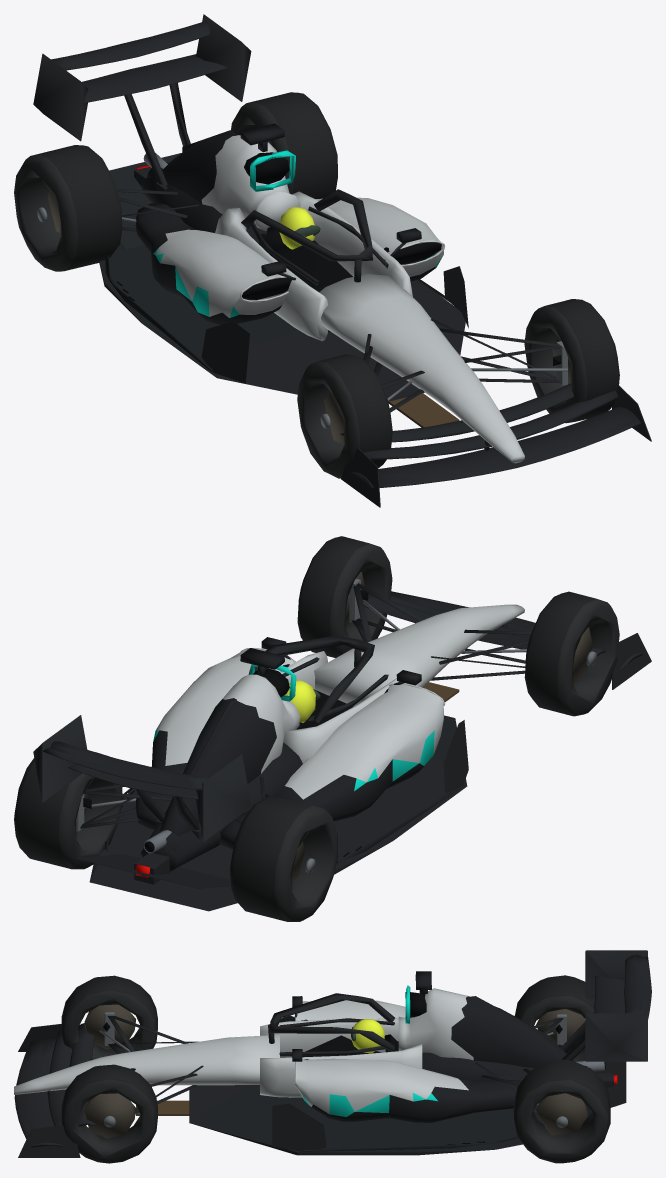
3 views of the same model, one above another, from view 1: azimuth 30°, elevation 25°; view 2: azimuth 150°, elevation 25°; view 3: azimuth 270°, elevation 25° (orthographic). The views are drawn at different scales.
Parts seen in each view (by area): view 1: L3_Chassis, L3_Wheel_RL, L3_Wheel_FL, L3_Wheel_FR, L3_Wheel_RR; view 2: L3_Chassis, L3_Wheel_RL, L3_Wheel_FL, L3_Wheel_RR, L3_Wheel_FR; view 3: L3_Chassis, L3_Wheel_RR, L3_Wheel_FR, L3_Wheel_FL, L3_Wheel_RL.
Part boxes in pixels (x1,y1,x2,y2): L3_Chassis: (33,14,651,507); L3_Wheel_RL: (14,145,122,271); L3_Wheel_FL: (297,354,392,478); L3_Wheel_FR: (524,299,619,423); L3_Wheel_RR: (231,92,337,198); L3_Chassis: (33,572,651,911); L3_Wheel_RL: (229,796,338,921); L3_Wheel_FL: (524,591,619,716); L3_Wheel_RR: (14,752,122,869); L3_Wheel_FR: (297,536,392,657); L3_Chassis: (14,950,651,1157); L3_Wheel_RR: (513,1059,610,1163); L3_Wheel_FR: (61,1064,157,1163); L3_Wheel_FL: (61,975,157,1059); L3_Wheel_RL: (514,975,594,1061).
Bounding box in the file's own units: 1.9 × 1.13 × 4.8.
